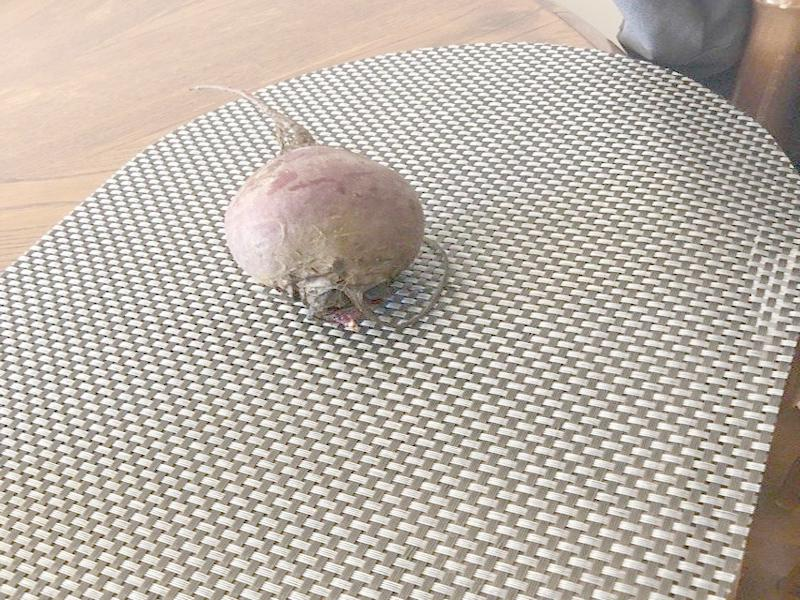Beet: (191, 84, 451, 330)
